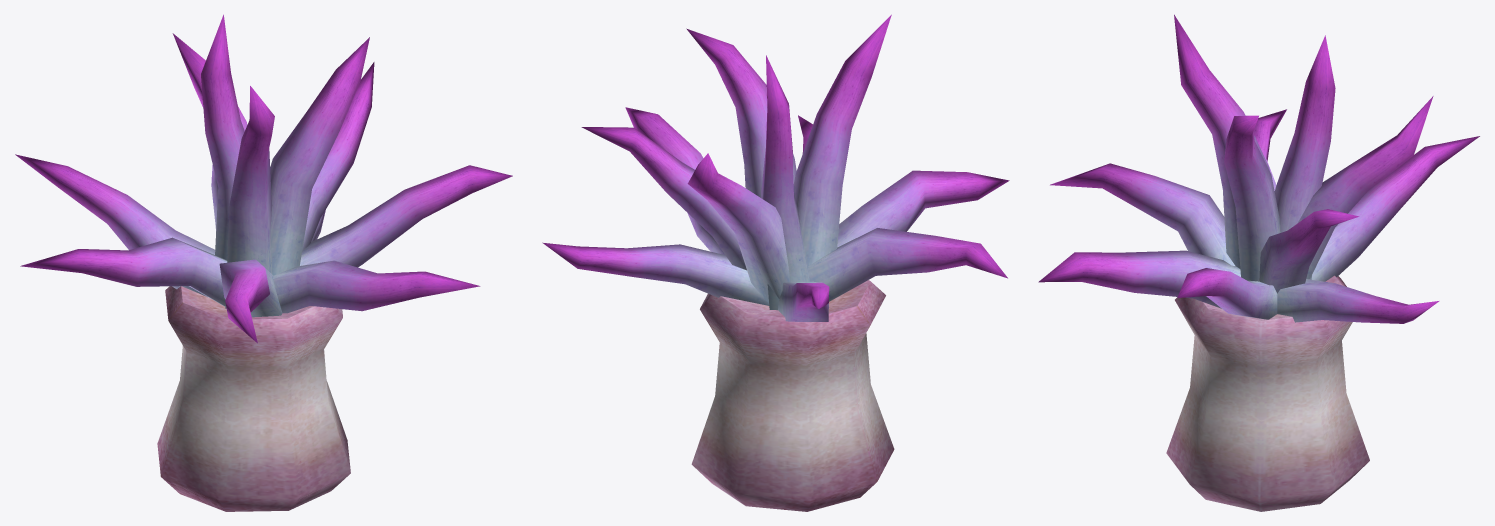
File: environment_grass_seahaikui_001_a.FBX
3 views of the same model, side by side, from view 1: azimuth 30°, elevation 25°; view 2: azimuth 150°, elevation 25°; view 3: azimuth 270°, elevation 25° (orthographic).
Visible parts, largest first — view 1: environment_grass_seahaikui_001_a; view 2: environment_grass_seahaikui_001_a; view 3: environment_grass_seahaikui_001_a.
Part boxes in pixels (x1,y1,x2,y2): environment_grass_seahaikui_001_a: (15, 14, 512, 511); environment_grass_seahaikui_001_a: (542, 14, 1009, 511); environment_grass_seahaikui_001_a: (1038, 14, 1479, 511).
Bounding box in the file's own units: 172 × 167 × 151.
